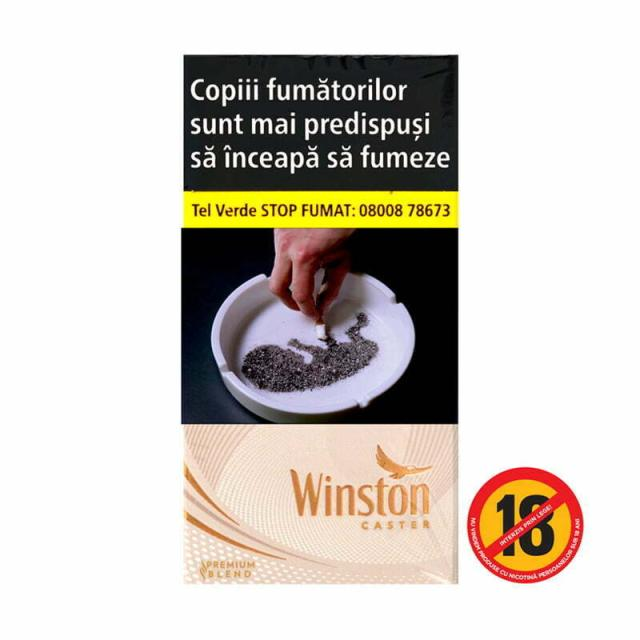winston: (173, 46, 467, 601)
